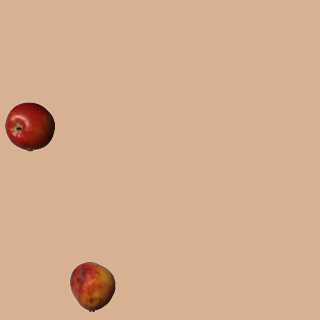Apple Braeburn: (4, 101, 54, 151)
Peach: (67, 261, 117, 311)
